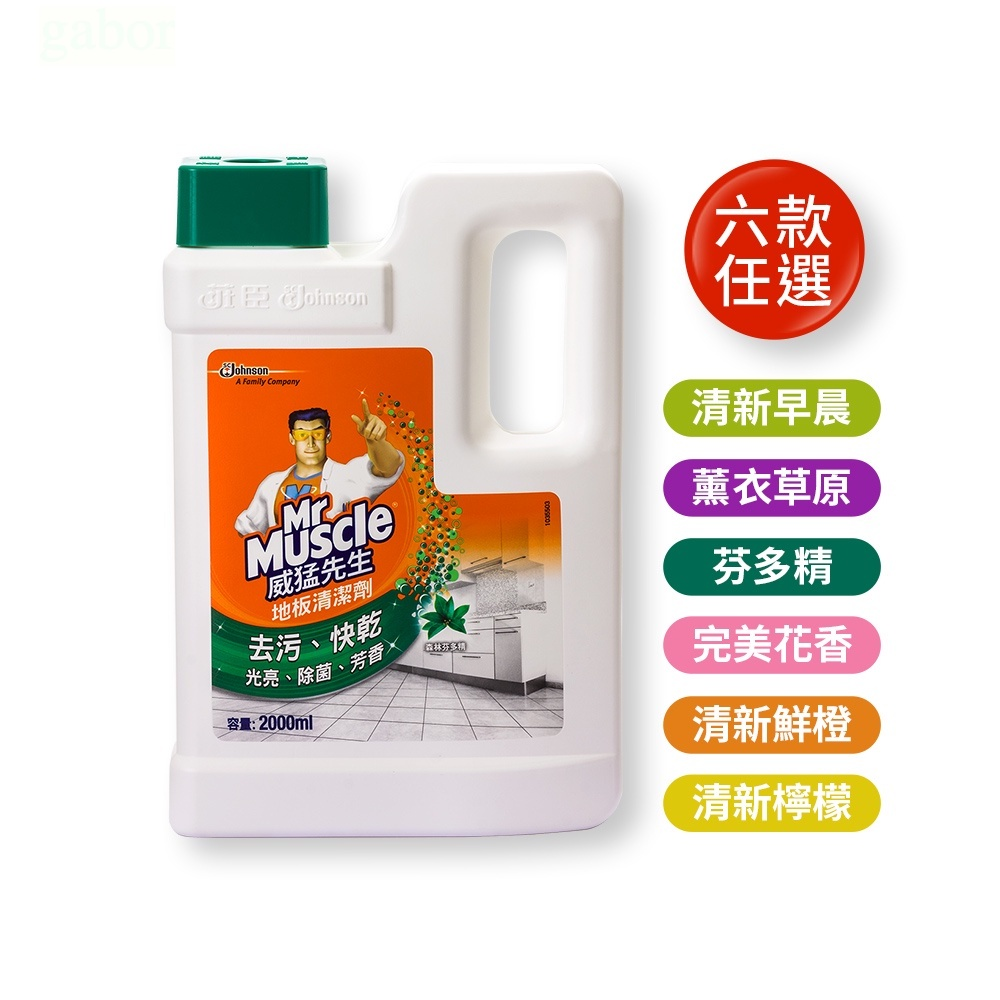cleaner: (154, 152, 645, 844)
